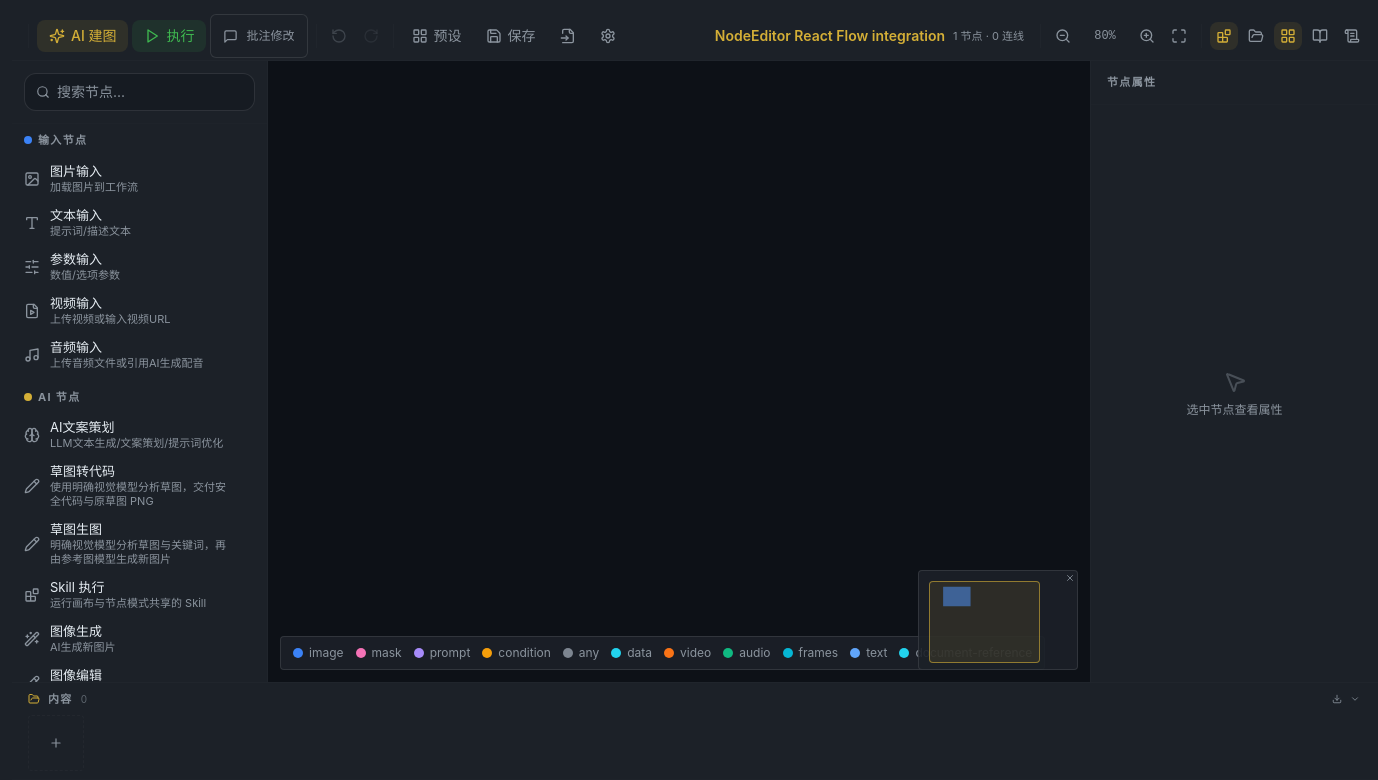
Test: NodeEditor react-flow-v2 integration › keeps the legacy annotation action in the keyboard-accessible toolbar rather than over graph controls
Click the button "批注修改": (259, 36) [210, 14, 308, 58]
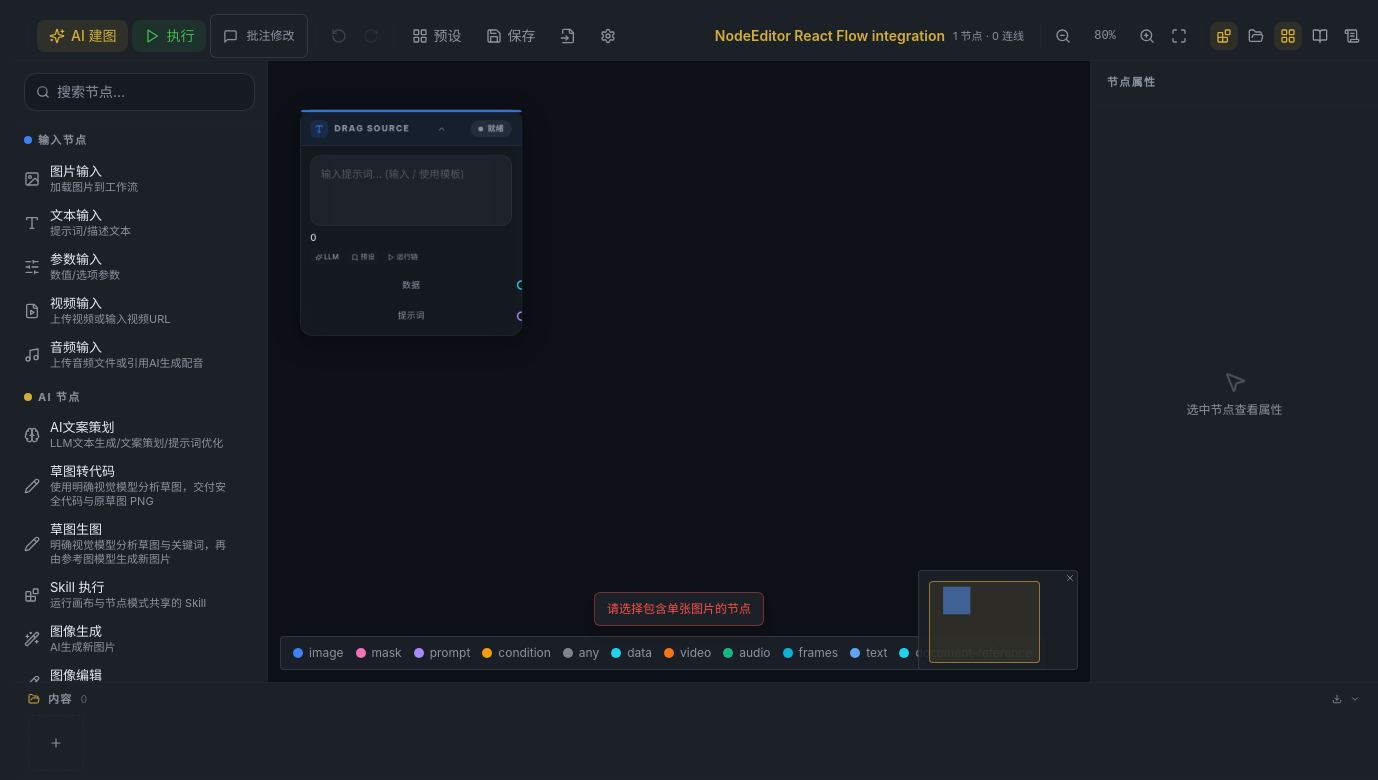
Expected: the message reads "请选择包含单张图片的节点", [607, 601, 751, 616]
